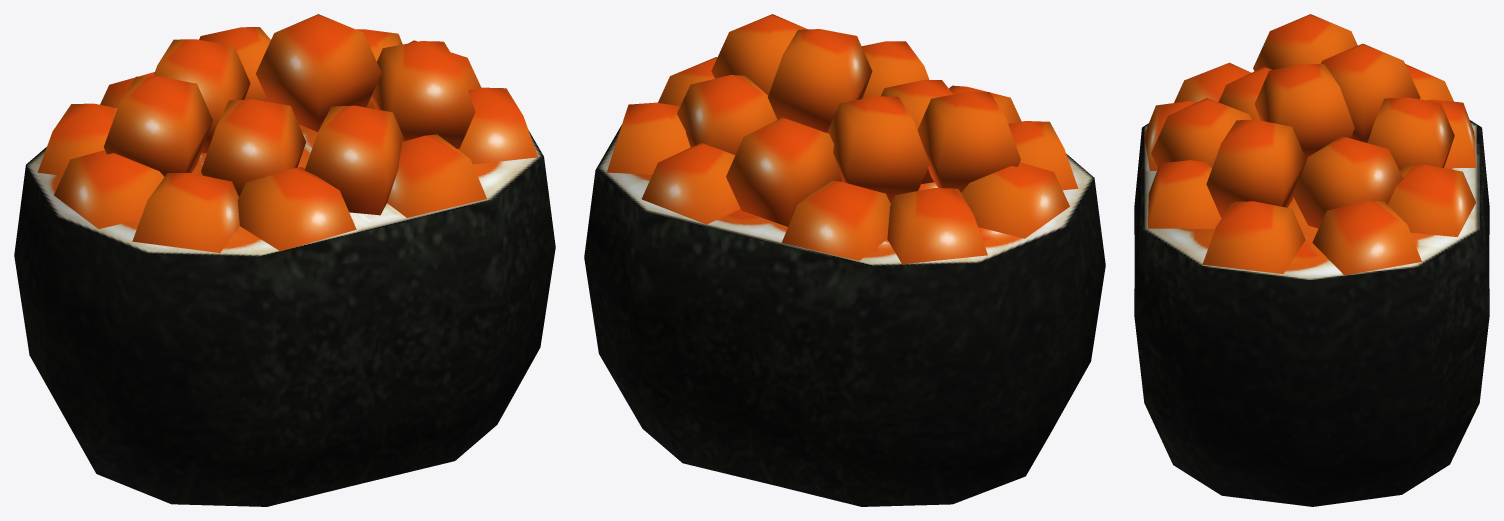
Rendered from ikura.fbx.
3 views of the same model, side by side, from view 1: azimuth 30°, elevation 25°; view 2: azimuth 150°, elevation 25°; view 3: azimuth 270°, elevation 25° (orthographic). The views are drawn at different scales.
Parts seen in each view (by area): view 1: ikura; view 2: ikura; view 3: ikura.
Part boxes in pixels (x1=…): ikura: x1=14, y1=14, x2=555, y2=506; ikura: x1=584, y1=14, x2=1105, y2=506; ikura: x1=1134, y1=14, x2=1489, y2=506.
Bounding box in the file's own units: 1.72 × 1.4 × 1.21.
